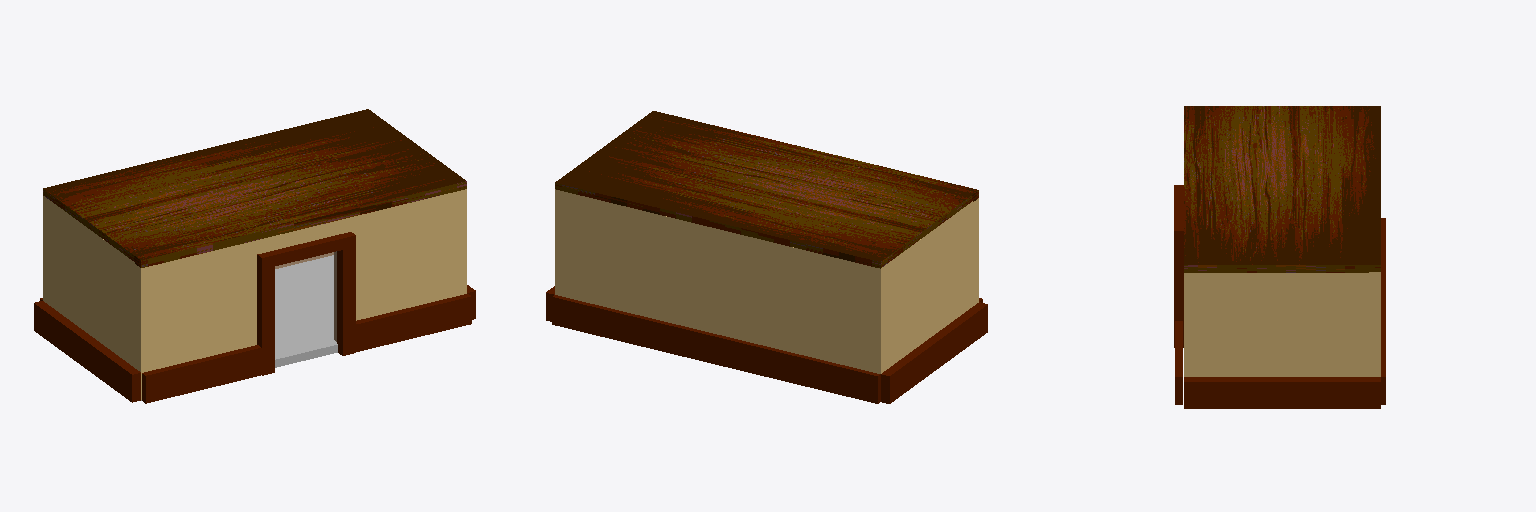
3 renders of one model, left to right at view 1: azimuth 30°, elevation 25°; view 2: azimuth 150°, elevation 25°; view 3: azimuth 270°, elevation 25°, orthographic.
Parts seen in each view (by area): view 1: Cube.000_Cube.030, Box001.001, Box003.002_Box003.003, Cube.029, Box001.002_Box001.003, Box003.003_Box003.008, Box002.007, Box002.003_Box002.008, Box002.005; view 2: Box002.005, Cube.000_Cube.030, Box002.006, Box003.002_Box003.003, Box003.003_Box003.008, Box001.001; view 3: Cube.000_Cube.030, Box003.000_Box003.006, Box003.007, Box001.002_Box001.003, Box002.005, Box001.001, Box002.006, Box002.003_Box002.008.
Part boxes in pixels (x1,y1,x2,y2): Cube.000_Cube.030: (43, 109, 466, 267); Box001.001: (135, 189, 466, 399); Box003.002_Box003.003: (49, 200, 134, 367); Cube.029: (141, 255, 337, 400); Box001.002_Box001.003: (257, 232, 355, 375); Box003.003_Box003.008: (34, 301, 140, 402); Box002.007: (142, 345, 261, 403); Box002.003_Box002.008: (356, 294, 471, 351); Box002.005: (43, 196, 333, 304); Box002.005: (555, 189, 885, 373); Cube.000_Cube.030: (555, 111, 978, 268); Box002.006: (552, 295, 880, 403); Box003.002_Box003.003: (886, 201, 972, 369); Box003.003_Box003.008: (881, 302, 987, 403); Box001.001: (973, 198, 978, 305); Cube.000_Cube.030: (1184, 106, 1380, 272); Box003.000_Box003.006: (1195, 273, 1368, 376); Box003.007: (1184, 377, 1380, 408); Box001.002_Box001.003: (1174, 185, 1183, 347); Box002.005: (1369, 272, 1380, 376); Box001.001: (1184, 273, 1194, 376); Box002.006: (1381, 218, 1385, 404); Box002.003_Box002.008: (1175, 321, 1182, 404).
Bounding box in the file's own units: 400 × 157 × 214.
6 materials, 1 textured.